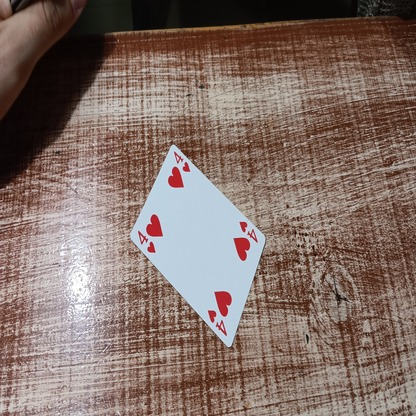4h: (205, 309, 227, 336), (170, 149, 193, 174), (133, 228, 156, 253), (238, 221, 258, 242)
